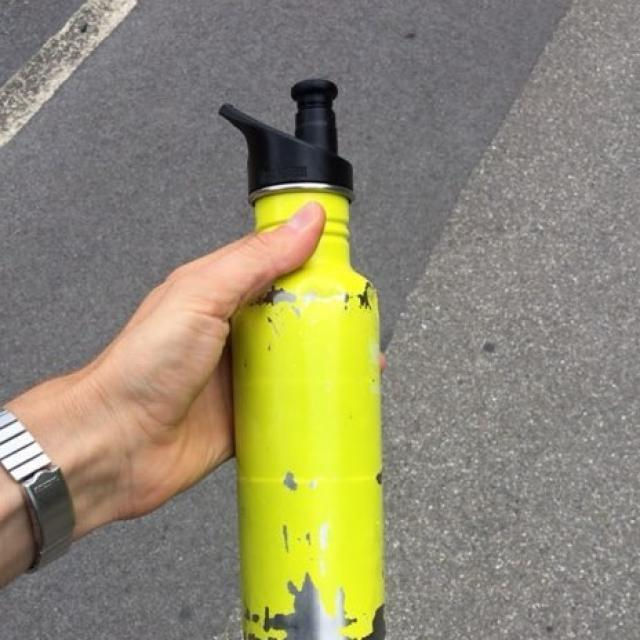water: (231, 141, 384, 626)
